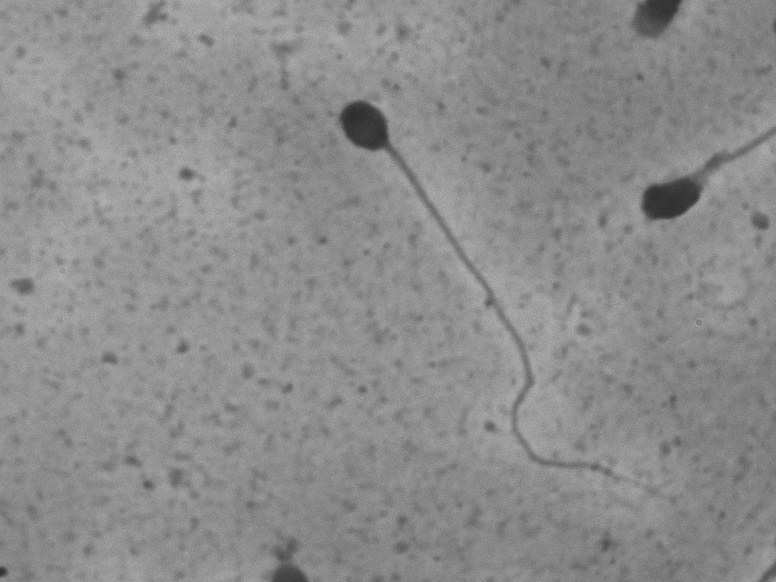Abnormal: (329, 70, 595, 519), (609, 93, 746, 255)
